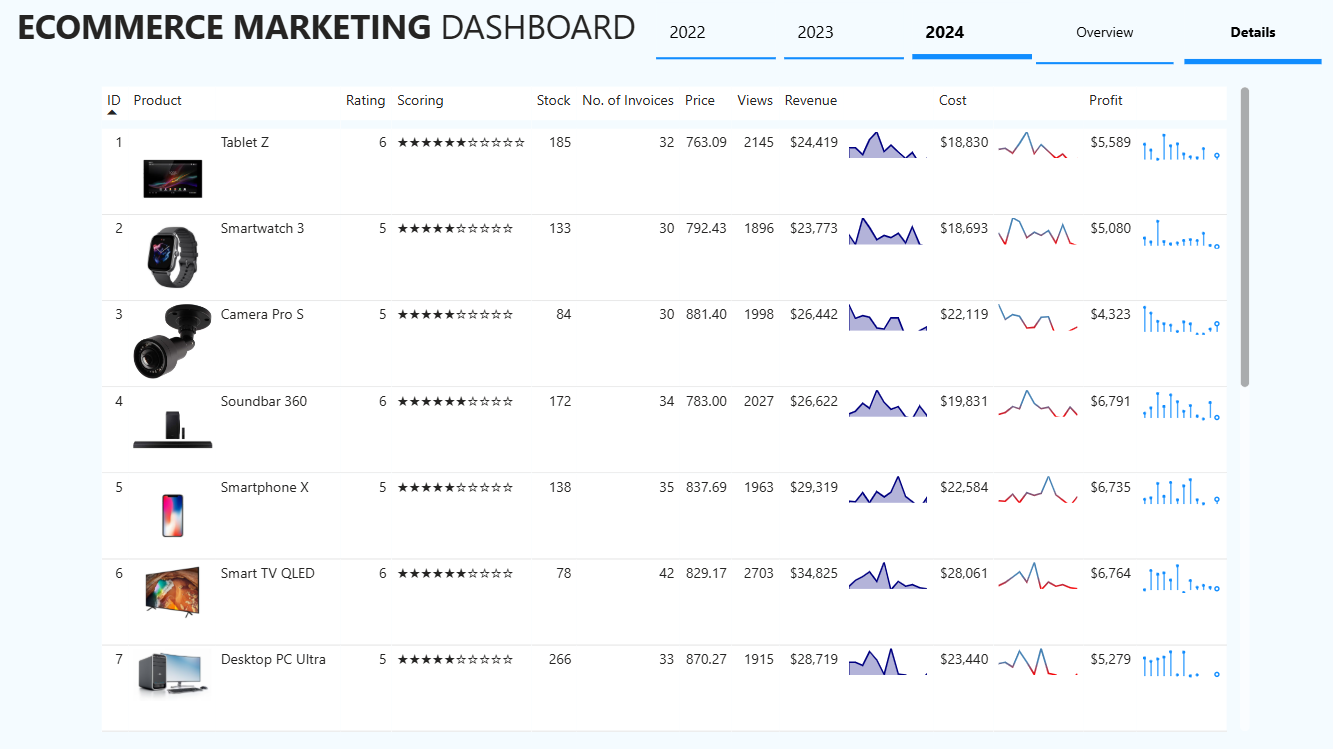

The page's visual inventory and layout, read from the dashboard file:
{"tool":"powerbi","page":{"name":"Details","canvas":[1280,720],"ordinal":1},"visuals":[{"type":"tableEx","fields":{"Values":["dimProduct.Product ID","dimProduct.product_stock_table.Img","dimProduct.Product","All Measures.Avg Rating","All Measures.Scoring","dimProduct.product_stock_table.Stock Quantity","All Measures.Invoices","Avg(factSalesData.Sales Amount (USD))","All Measures.Views","All Measures.Revenue","All Measures.Revenue Sparkline","All Measures.Cost"]},"box":[96,80,1104,624],"z":1},{"type":"textbox","box":[16,0,624,64],"z":2},{"type":"advancedSlicerVisual","fields":{"Values":["Calendar.Year"]},"box":[624,0,368,64],"z":3},{"type":"pageNavigator","box":[992,0,272,64],"z":4}]}

Visuals, with their boxes in screenshot pixels (x1, y1, x2, y2), scaled from the page's 1280x720 canvas onto the 1333x749 screenshot:
tableEx - dimProduct.Product ID x dimProduct.product_stock_table.Img: locate(100, 83, 1250, 732)
textbox: locate(17, 0, 666, 67)
advancedSlicerVisual - Calendar.Year: locate(650, 0, 1033, 67)
pageNavigator: locate(1033, 0, 1316, 67)
